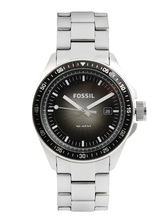watch: (30, 8, 149, 213)
